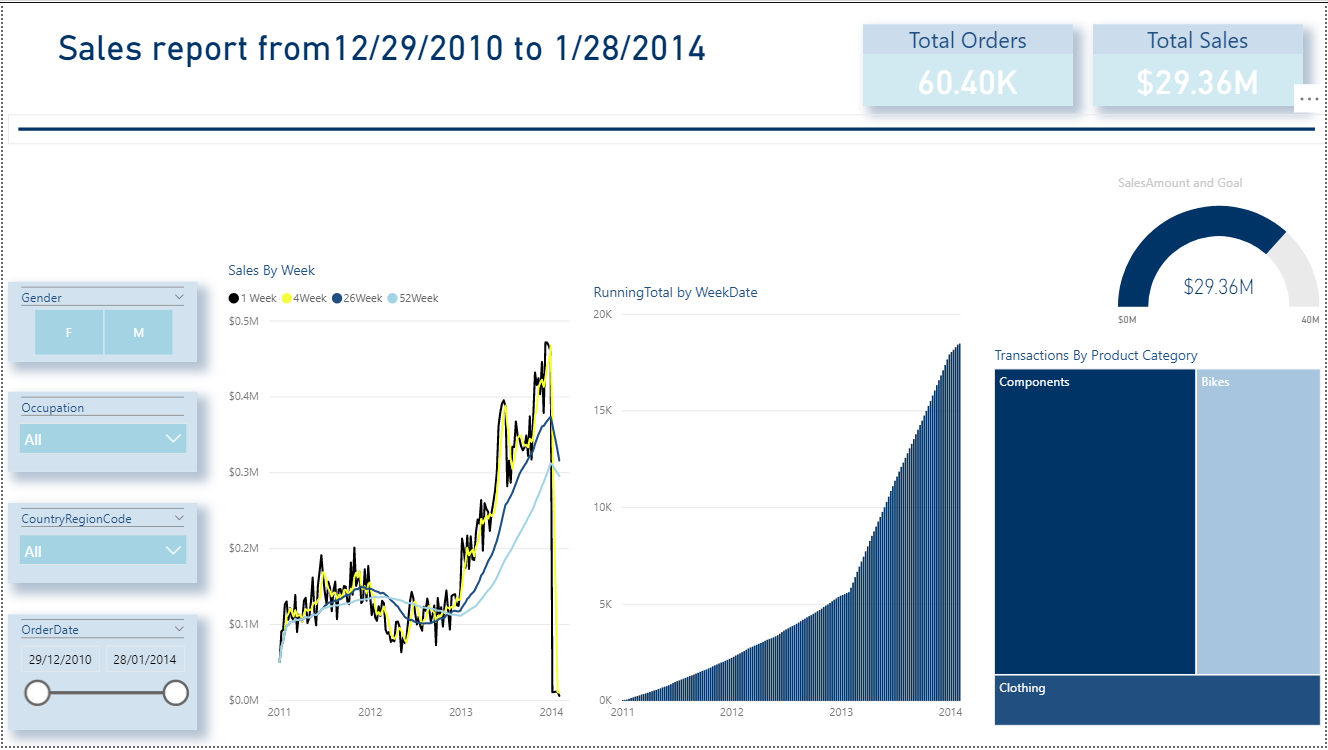

The dashboard page shown, as its layout file describes it:
{"tool":"powerbi","page":{"name":"Page 1","canvas":[1280,720],"ordinal":0},"visuals":[{"type":"clusteredColumnChart","fields":{"Y":["MeasureTable.RunningTotal"],"Category":["FactInternetSales.WeekDate"]},"box":[565.9,269.6,377.7,433.5],"z":0},{"type":"lineChart","title":"Sales By Week","fields":{"Y":["Sum(FactInternetSales.SalesAmount)","MeasureTable.4WeekAverage","MeasureTable.26WeekAverage","MeasureTable.52WeekAverage"],"Category":["FactInternetSales.WeekDate"]},"box":[212.5,249,342.5,454.2],"z":1000},{"type":"slicer","fields":{"Values":["DimCustomer.Gender"]},"box":[4.9,269.6,183.4,77.7],"z":2000},{"type":"gauge","fields":{"Y":["Sum(FactInternetSales.SalesAmount)"],"MaxValue":["FactInternetSales.Goal"]},"box":[1074.8,166.4,205.2,165.2],"z":3000},{"type":"card","fields":{"Values":["MeasureTable.DynamicTitle"]},"box":[29.1,8.5,675.2,64.4],"z":4000},{"type":"slicer","fields":{"Values":["DimCustomer.EnglishOccupation"]},"box":[4.9,376.9,183.4,77.7],"z":5000},{"type":"slicer","fields":{"Values":["DimGeography.CountryRegionCode"]},"box":[4.9,484.1,183.4,77.7],"z":6000},{"type":"slicer","fields":{"Values":["FactInternetSales.OrderDate"]},"box":[4.9,591.4,183.4,111.7],"z":7000},{"type":"card","title":"Total Sales","fields":{"Values":["Sum(FactInternetSales.SalesAmount)"]},"box":[1055.3,20.6,202.8,78.9],"z":8000},{"type":"card","title":"Total Orders","fields":{"Values":["CountNonNull(FactInternetSales.SalesAmount)"]},"box":[833.1,20.6,202.8,78.9],"z":9000},{"type":"basicShape","box":[4.9,108.1,1275.1,29.1],"z":10000},{"type":"treemap","title":"Transactions By Product Category","fields":{"Group":["DimProductCategory.EnglishProductCategoryName"],"Values":["CountNonNull(FactInternetSales.OrderDate)"]},"box":[954.5,331.5,325.5,372.8],"z":11000}]}

Visuals, with their boxes in screenshot pixels (x1, y1, x2, y2), scaled from the page's 1280x720 canvas onto the 1328x750 screenshot:
clusteredColumnChart - MeasureTable.RunningTotal x FactInternetSales.WeekDate: 587, 281, 979, 732
"Sales By Week" lineChart: 220, 259, 576, 733
slicer - DimCustomer.Gender: 5, 281, 195, 362
gauge - Sum(FactInternetSales.SalesAmount) x FactInternetSales.Goal: 1115, 173, 1327, 345
card - MeasureTable.DynamicTitle: 30, 9, 731, 76
slicer - DimCustomer.EnglishOccupation: 5, 393, 195, 474
slicer - DimGeography.CountryRegionCode: 5, 504, 195, 585
slicer - FactInternetSales.OrderDate: 5, 616, 195, 732
"Total Sales" card: 1095, 21, 1305, 104
"Total Orders" card: 864, 21, 1075, 104
basicShape: 5, 113, 1327, 143
"Transactions By Product Category" treemap: 990, 345, 1327, 734
